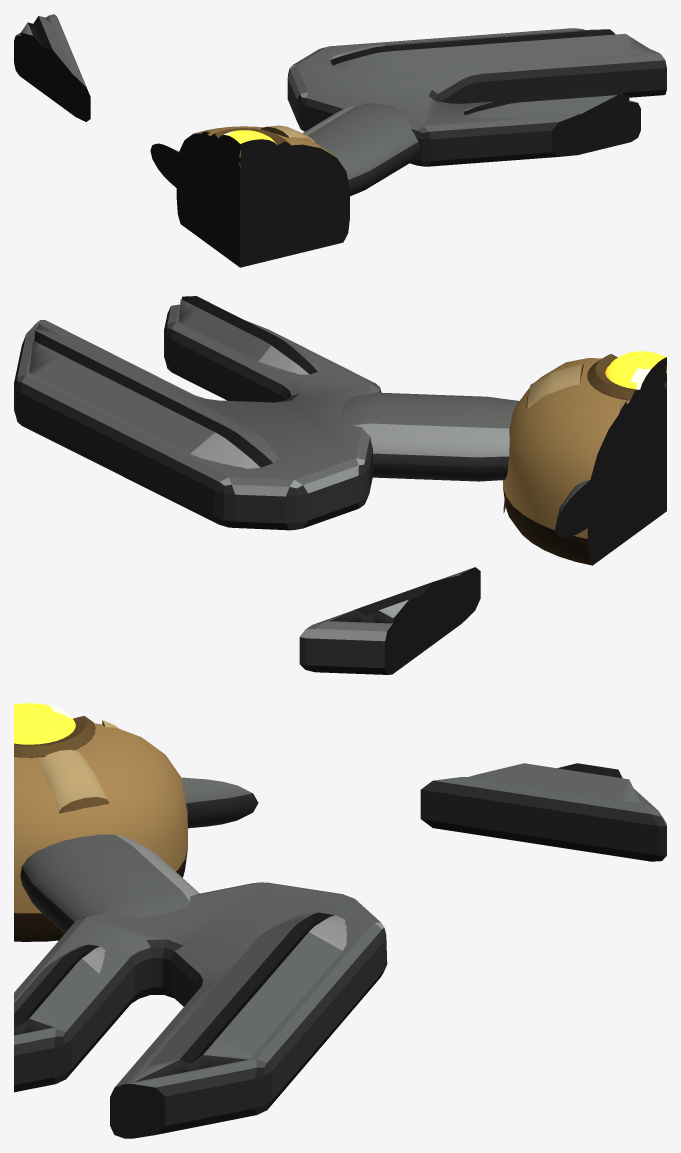
The model's file is spin_claw_7.glb.
3 renders of one model, top to bottom at view 1: azimuth 30°, elevation 25°; view 2: azimuth 150°, elevation 25°; view 3: azimuth 270°, elevation 25°, orthographic. The views are drawn at different scales.
Parts seen in each view (by area): view 1: spin_claw_7_arm1_plate, spin_claw_7_hub_dome, spin_claw_7_arm1_ridge0, spin_claw_7_arm1_rod, spin_claw_7_arm0_plate, spin_claw_7_arm1_ridge1, spin_claw_7_arm0_rod, spin_claw_7_hub_lens, spin_claw_7_arm0_ridge1, spin_claw_7_hub_bezel; view 2: spin_claw_7_arm1_plate, spin_claw_7_hub_dome, spin_claw_7_arm1_rod, spin_claw_7_arm1_ridge0, spin_claw_7_arm0_plate, spin_claw_7_arm1_ridge1, spin_claw_7_arm0_rod, spin_claw_7_arm0_ridge1, spin_claw_7_hub_lens, spin_claw_7_hub_rib1, spin_claw_7_hub_bezel; view 3: spin_claw_7_arm1_plate, spin_claw_7_hub_dome, spin_claw_7_arm1_ridge0, spin_claw_7_arm0_plate, spin_claw_7_arm1_rod, spin_claw_7_arm1_ridge1, spin_claw_7_arm0_ridge1, spin_claw_7_arm0_rod, spin_claw_7_hub_rib1, spin_claw_7_hub_lens, spin_claw_7_hub_bezel.
Part boxes in pixels (bbox=[...]): spin_claw_7_arm1_plate: bbox=[287, 28, 666, 166]; spin_claw_7_hub_dome: bbox=[176, 126, 349, 267]; spin_claw_7_arm1_ridge0: bbox=[330, 29, 655, 72]; spin_claw_7_arm1_rod: bbox=[303, 103, 420, 202]; spin_claw_7_arm0_plate: bbox=[14, 14, 90, 121]; spin_claw_7_arm1_ridge1: bbox=[463, 89, 629, 122]; spin_claw_7_arm0_rod: bbox=[150, 143, 195, 202]; spin_claw_7_hub_lens: bbox=[218, 130, 278, 167]; spin_claw_7_arm0_ridge1: bbox=[20, 16, 72, 74]; spin_claw_7_hub_bezel: bbox=[211, 128, 290, 164]; spin_claw_7_arm1_plate: bbox=[14, 304, 381, 530]; spin_claw_7_hub_dome: bbox=[503, 358, 666, 565]; spin_claw_7_arm1_rod: bbox=[341, 392, 519, 481]; spin_claw_7_arm1_ridge0: bbox=[29, 323, 278, 468]; spin_claw_7_arm0_plate: bbox=[299, 567, 480, 674]; spin_claw_7_arm1_ridge1: bbox=[178, 296, 319, 374]; spin_claw_7_arm0_rod: bbox=[555, 463, 611, 537]; spin_claw_7_arm0_ridge1: bbox=[330, 575, 463, 630]; spin_claw_7_hub_lens: bbox=[605, 351, 666, 401]; spin_claw_7_hub_rib1: bbox=[503, 364, 583, 513]; spin_claw_7_hub_bezel: bbox=[587, 354, 665, 400]; spin_claw_7_arm1_plate: bbox=[14, 882, 387, 1138]; spin_claw_7_hub_dome: bbox=[14, 723, 187, 941]; spin_claw_7_arm1_ridge0: bbox=[123, 912, 346, 1093]; spin_claw_7_arm0_plate: bbox=[420, 777, 666, 861]; spin_claw_7_arm1_rod: bbox=[20, 834, 199, 933]; spin_claw_7_arm1_ridge1: bbox=[14, 944, 105, 1035]; spin_claw_7_arm0_ridge1: bbox=[469, 763, 640, 803]; spin_claw_7_arm0_rod: bbox=[181, 777, 258, 828]; spin_claw_7_hub_rib1: bbox=[38, 750, 109, 813]; spin_claw_7_hub_lens: bbox=[14, 703, 75, 744]; spin_claw_7_hub_bezel: bbox=[14, 716, 95, 757].
Bounding box in the file's own units: 24 × 6.22 × 21.58.
